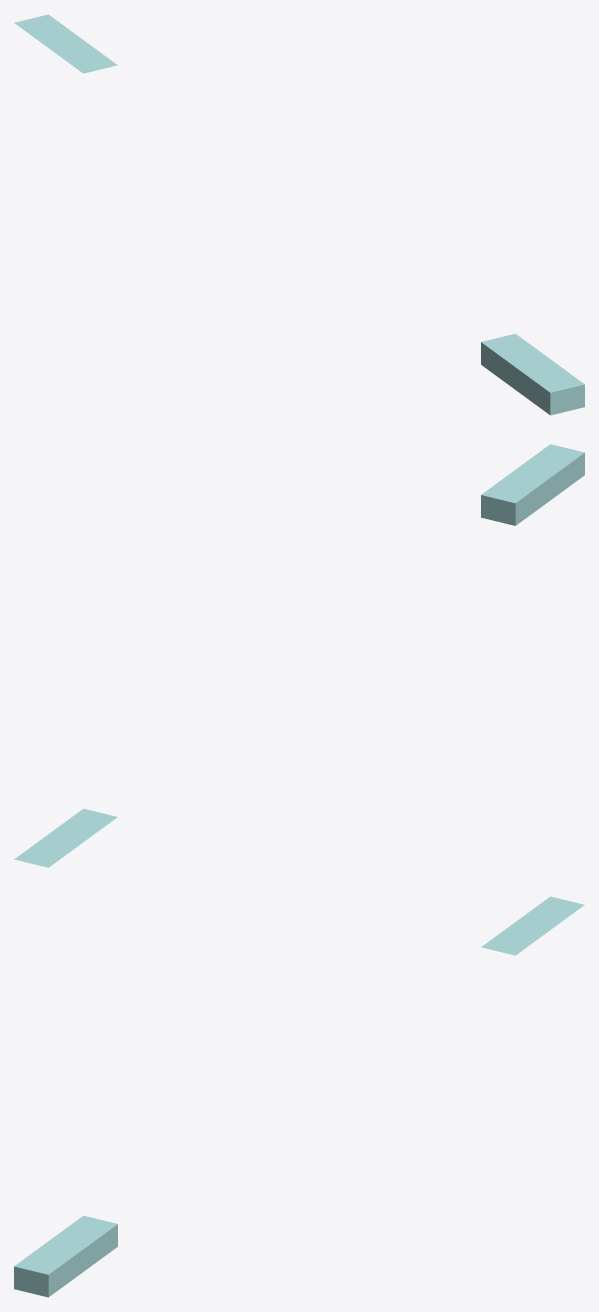
Rendered from Ring_03_Inner_Channel_01.fbx.
3 views of the same model, one above another, from view 1: azimuth 30°, elevation 25°; view 2: azimuth 150°, elevation 25°; view 3: azimuth 330°, elevation 25° (orthographic).
Parts seen in each view (by area): view 1: Ring_03_Inner_Channel_01, Ring_03_Inner_Floor_01; view 2: Ring_03_Inner_Channel_01, Ring_03_Inner_Floor_01; view 3: Ring_03_Inner_Channel_01, Ring_03_Inner_Floor_01.
Part boxes in pixels (left/top/right/bottom): Ring_03_Inner_Channel_01: left=481, top=333, right=584, bottom=415; Ring_03_Inner_Floor_01: left=14, top=14, right=117, bottom=73; Ring_03_Inner_Channel_01: left=481, top=444, right=584, bottom=525; Ring_03_Inner_Floor_01: left=14, top=808, right=117, bottom=867; Ring_03_Inner_Channel_01: left=14, top=1215, right=117, bottom=1297; Ring_03_Inner_Floor_01: left=481, top=896, right=584, bottom=955.
Size of the model in its own units: 12.68 by 7.96 by 341.
